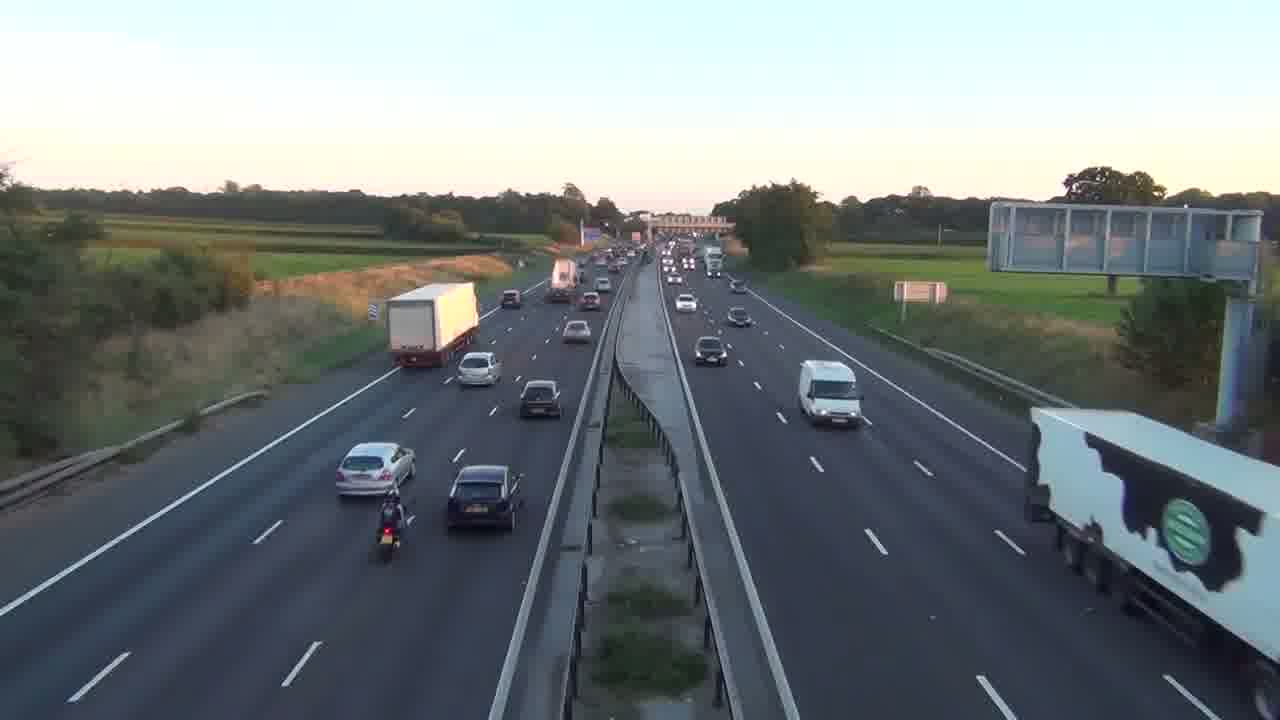car: (445, 463, 527, 531), (335, 441, 415, 497), (518, 379, 562, 419), (456, 351, 502, 388), (693, 336, 729, 366), (561, 319, 593, 344), (727, 306, 753, 327)
truck: (1023, 406, 1279, 667), (386, 281, 480, 369), (797, 360, 866, 427)
